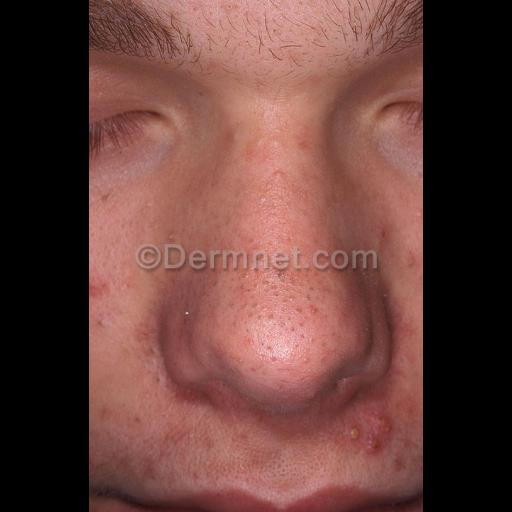Skin_Lesion: (272, 260, 324, 292), (268, 299, 306, 335), (372, 406, 400, 432), (366, 434, 388, 464), (240, 267, 262, 295), (388, 452, 412, 476), (396, 315, 416, 341), (262, 342, 280, 366), (144, 340, 164, 360), (246, 308, 262, 332), (254, 136, 282, 148), (90, 280, 106, 300), (346, 427, 362, 445), (204, 438, 220, 456), (272, 170, 292, 182), (300, 346, 314, 362), (408, 255, 420, 271), (97, 314, 109, 330), (132, 414, 144, 430), (378, 228, 390, 242), (297, 138, 307, 154), (98, 193, 114, 203), (153, 374, 165, 386), (184, 306, 196, 318), (232, 356, 246, 366), (229, 297, 239, 311), (309, 306, 321, 316), (165, 230, 175, 242), (230, 318, 240, 330), (209, 265, 221, 275), (246, 238, 258, 248), (382, 290, 390, 302), (310, 338, 322, 344), (212, 280, 218, 290)
